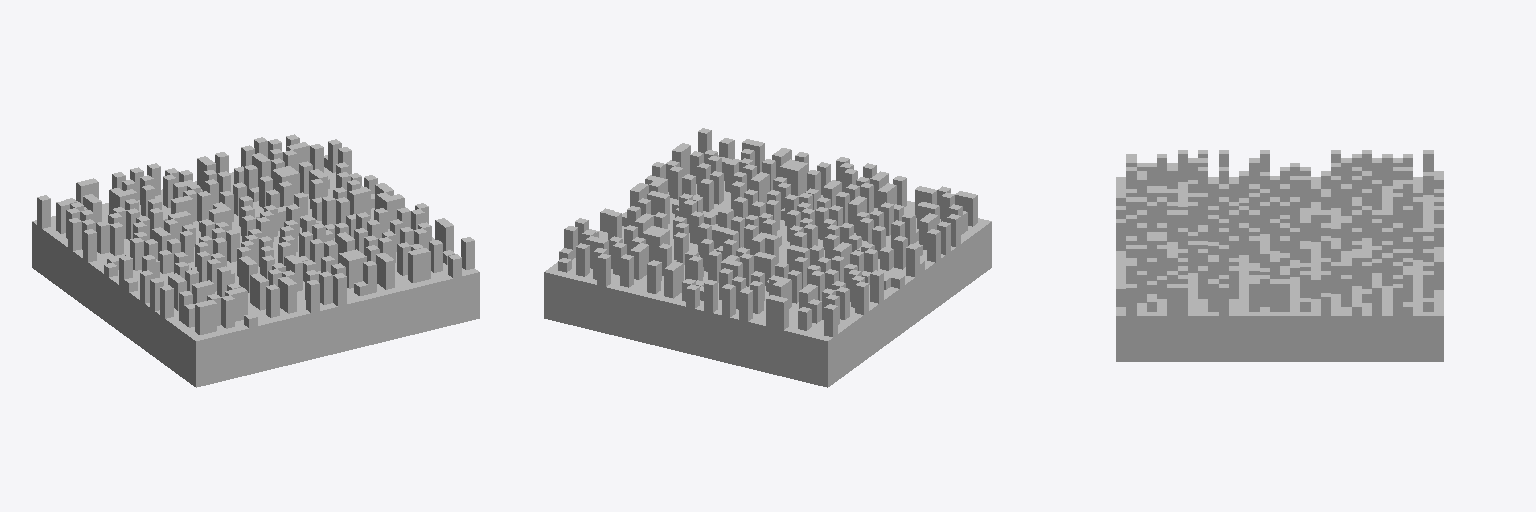
File: Plaines Map-22.obj
The picture shows the model from 3 angles: view 1: azimuth 30°, elevation 25°; view 2: azimuth 150°, elevation 25°; view 3: azimuth 270°, elevation 25°; orthographic projection.
Parts seen in each view (by area): view 1: object 1; view 2: object 1; view 3: object 1.
Part boxes in pixels (left/top/right/bottom): object 1: left=32, top=134, right=479, bottom=387; object 1: left=544, top=128, right=991, bottom=387; object 1: left=1116, top=150, right=1443, bottom=361.
Size of the model in its own units: 3.2 by 0.8 by 3.2.